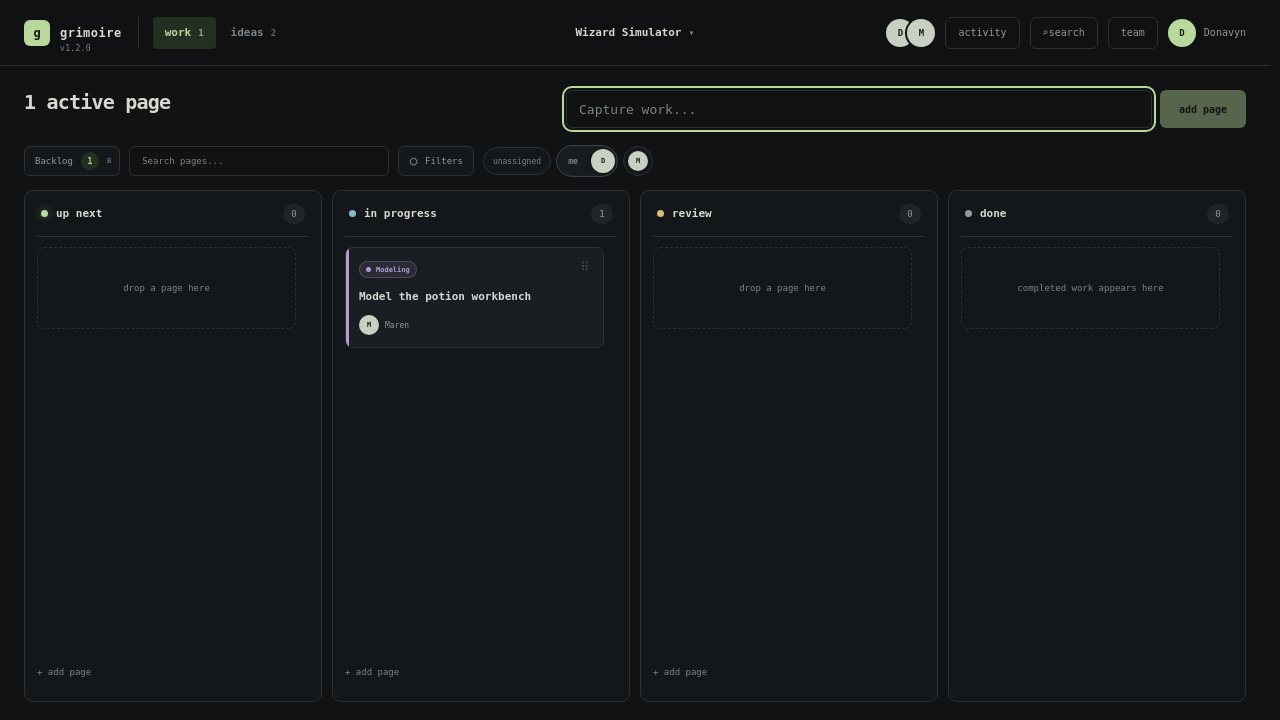
Test: a page's GitHub row › says plainly when the server refuses a reference
Click the text "Model the potion workbench".
click(445, 296)  # box [359,290,531,303]
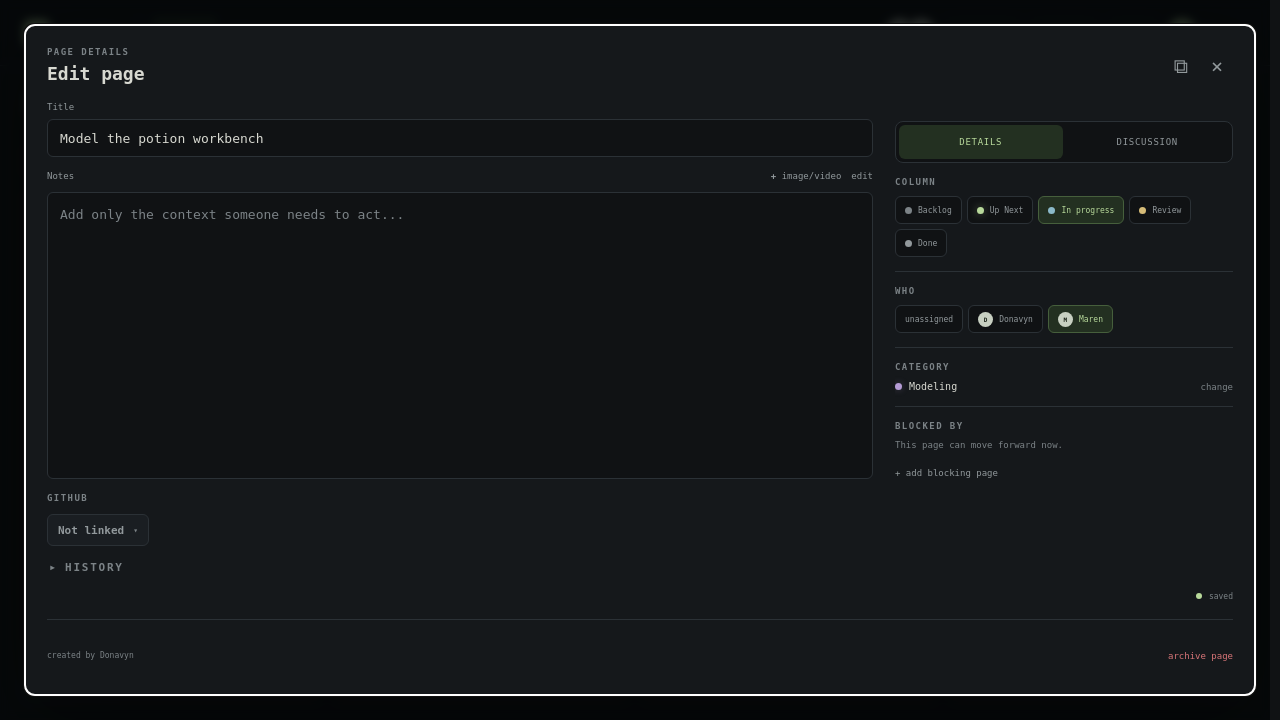
Click the button "Not linked ▾".
click(98, 530)  # box [47,514,149,546]
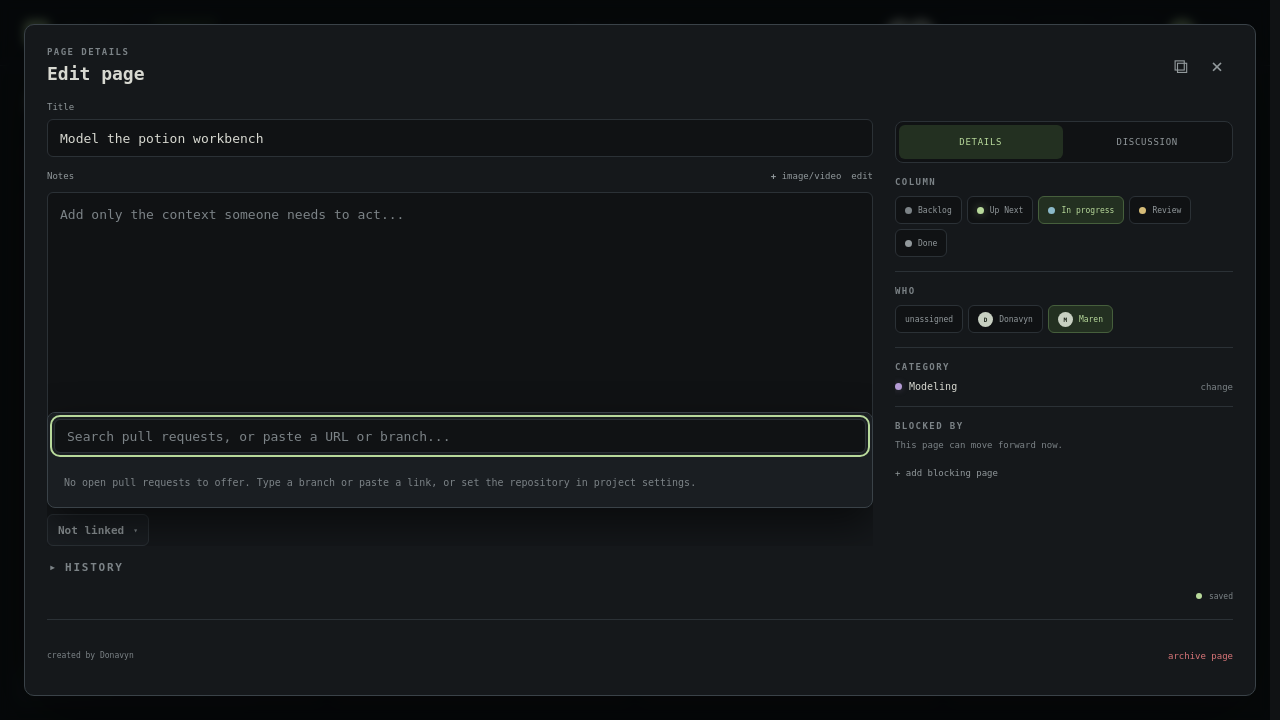
Type "??" into the search field named "Search pull requests, or type a branch".
click(460, 436); type("??")  # box [54,419,866,453]
Then press Enter
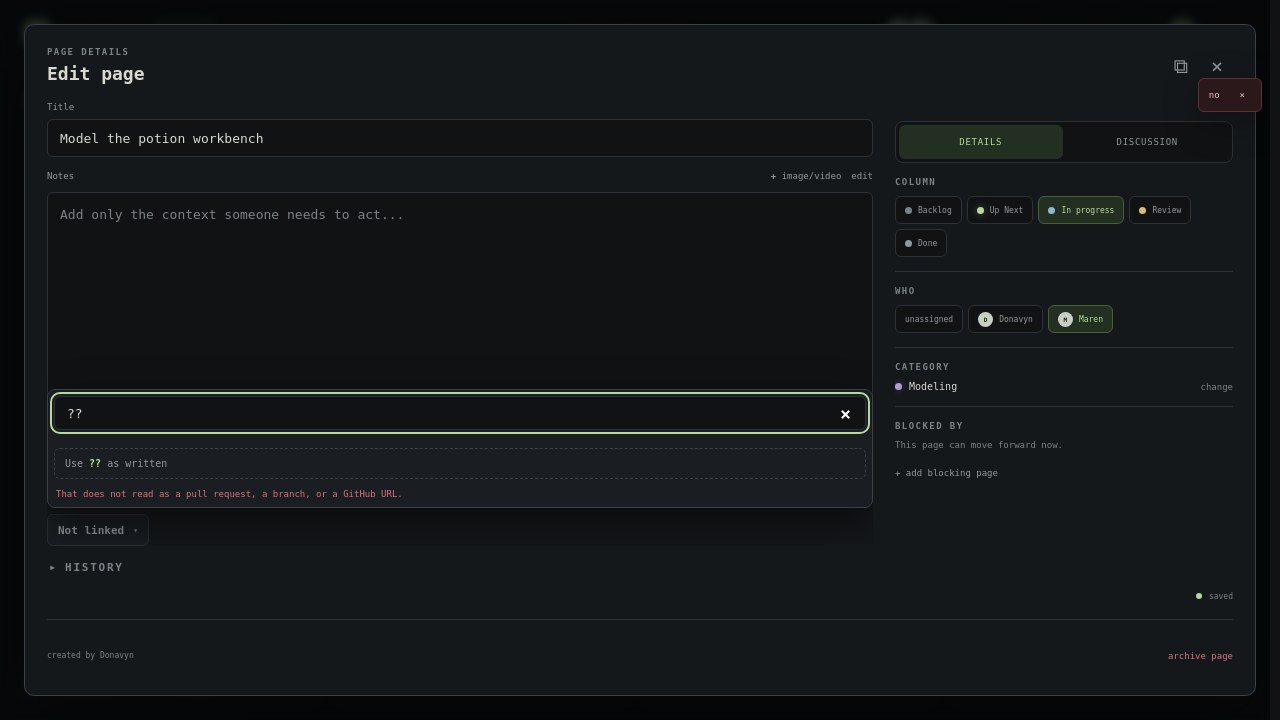
Now the message "That does not read as a pull request, a branch, or a GitHub URL." is shown, box [56,489,403,499]
